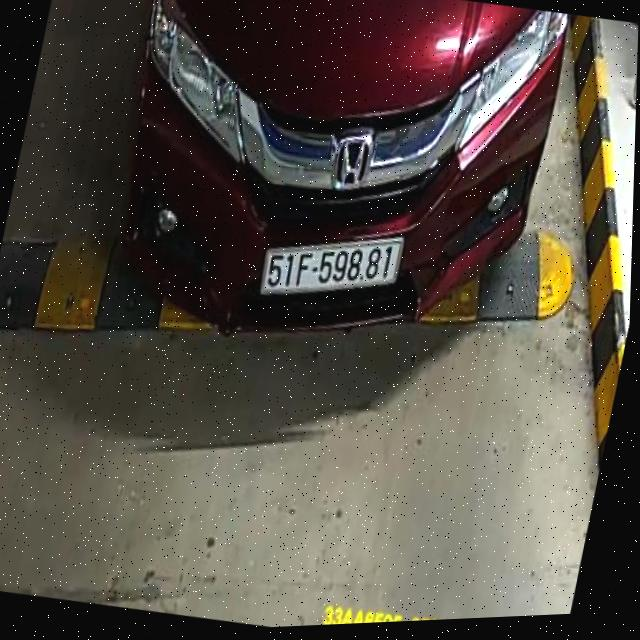car: (71, 0, 584, 398)
plate: (255, 217, 413, 320)
